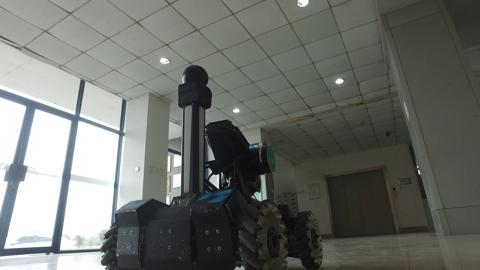chariot: (96, 57, 333, 270)
